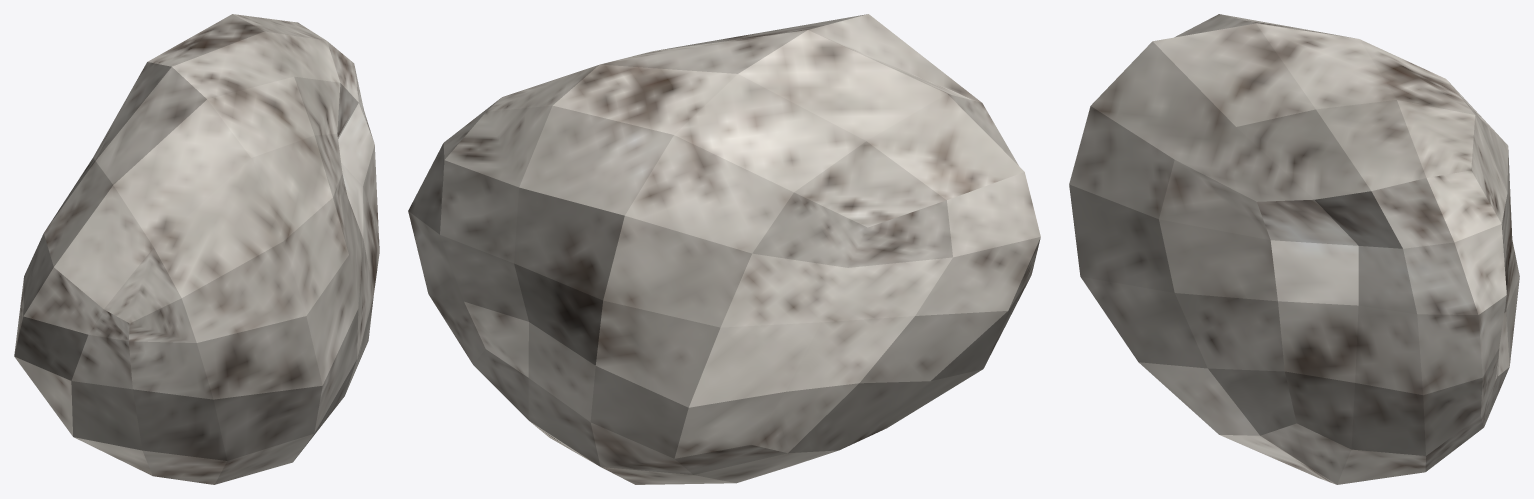
File: Rock_asteroid.fbx
3 views of the same model, side by side, from view 1: azimuth 30°, elevation 25°; view 2: azimuth 150°, elevation 25°; view 3: azimuth 270°, elevation 25° (orthographic). The views are drawn at different scales.
Visible parts, largest first — view 1: Rock_asteroid; view 2: Rock_asteroid; view 3: Rock_asteroid.
Part boxes in pixels (bbox=[...]): Rock_asteroid: bbox=[14, 14, 379, 484]; Rock_asteroid: bbox=[408, 14, 1040, 484]; Rock_asteroid: bbox=[1069, 14, 1519, 484].
Size of what is drawn, in the model's own units: 213 by 177 by 174.
